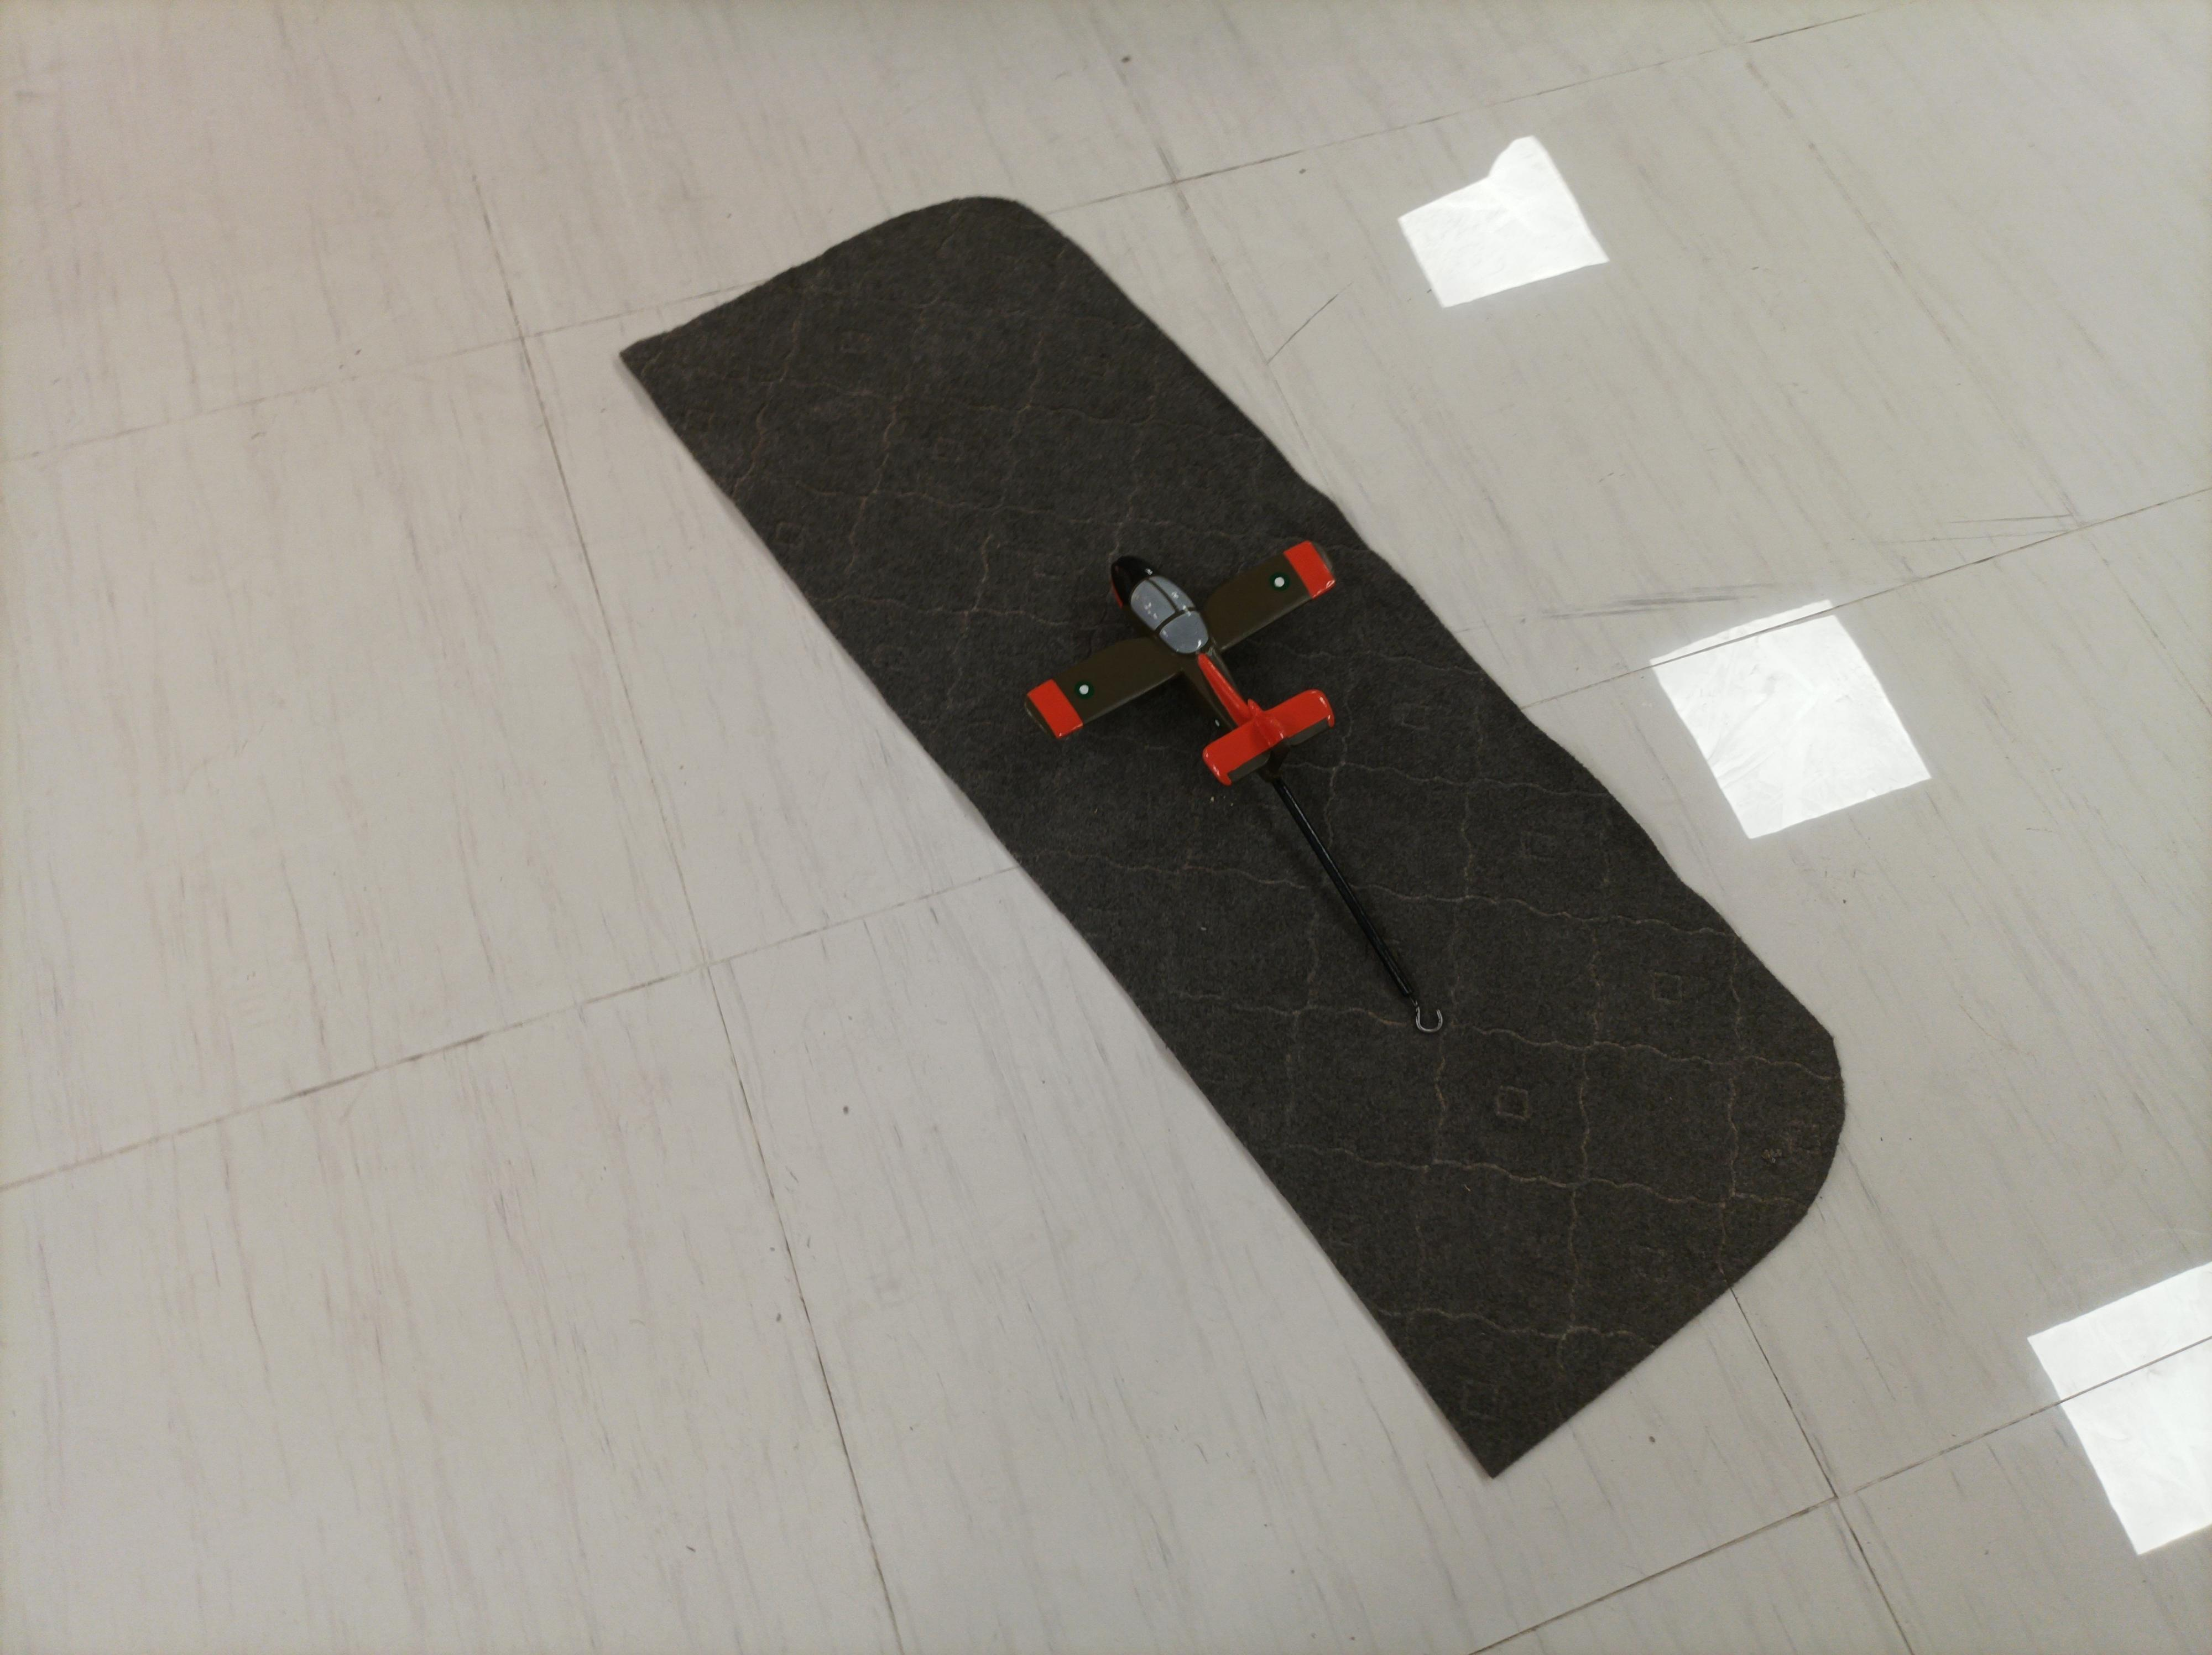Airplane: (1006, 497, 1374, 794)
